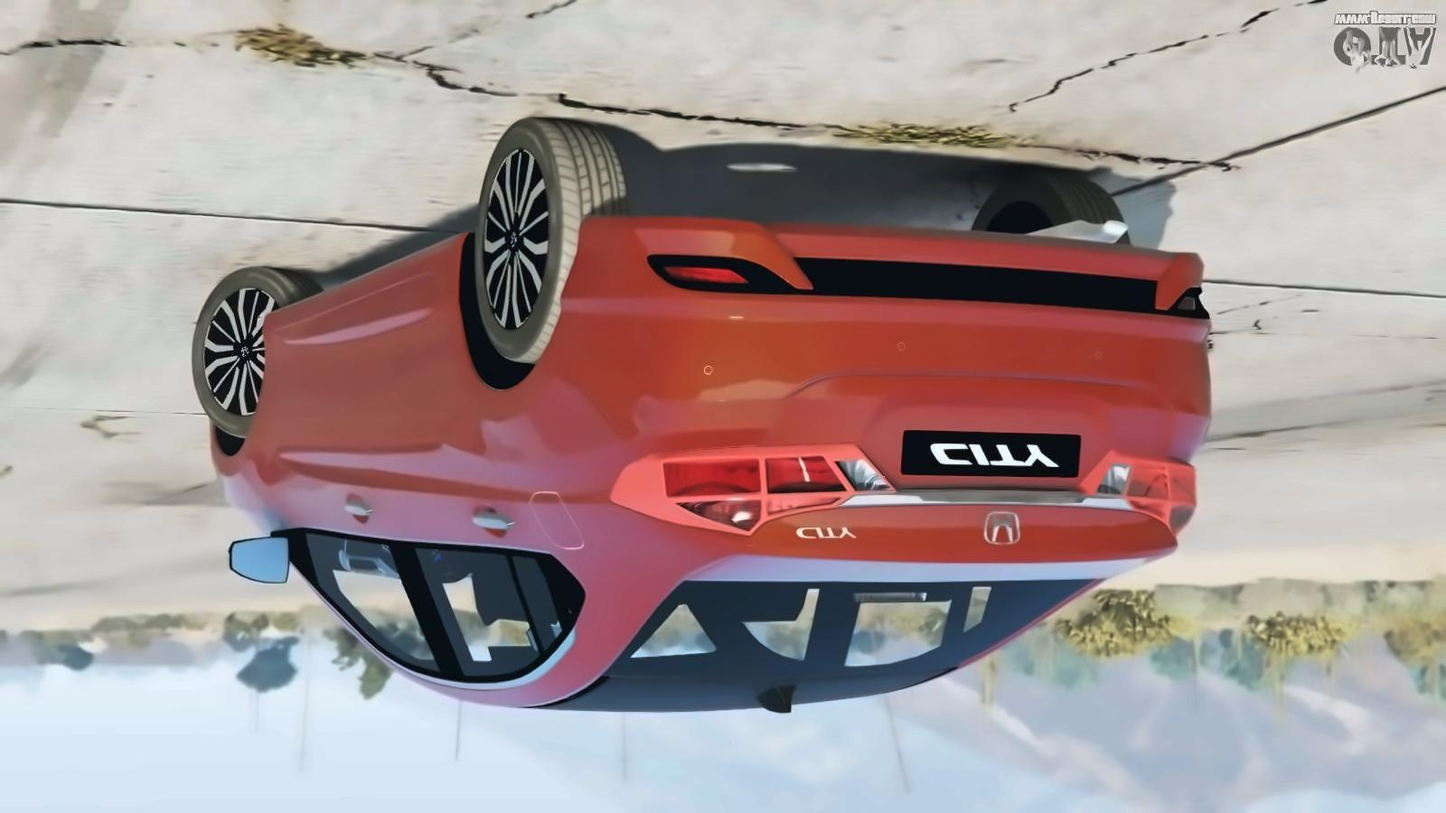Car boot: (699, 368, 1182, 570)
Driver-s door - -F-R-: (274, 259, 442, 695)
Fender - -F-R-: (218, 316, 275, 517)
Fender - -R-L-: (457, 238, 562, 493)
Passenger-s door - -R-R-: (386, 252, 537, 701)
Rear bumper: (568, 200, 1217, 451)
Rear light - -L-: (1073, 441, 1206, 541)
Rear light - -R-: (606, 438, 900, 544)
Side bumper - -R-: (256, 220, 481, 337)
Side mirror - -R-: (255, 222, 479, 338), (213, 521, 305, 592)
